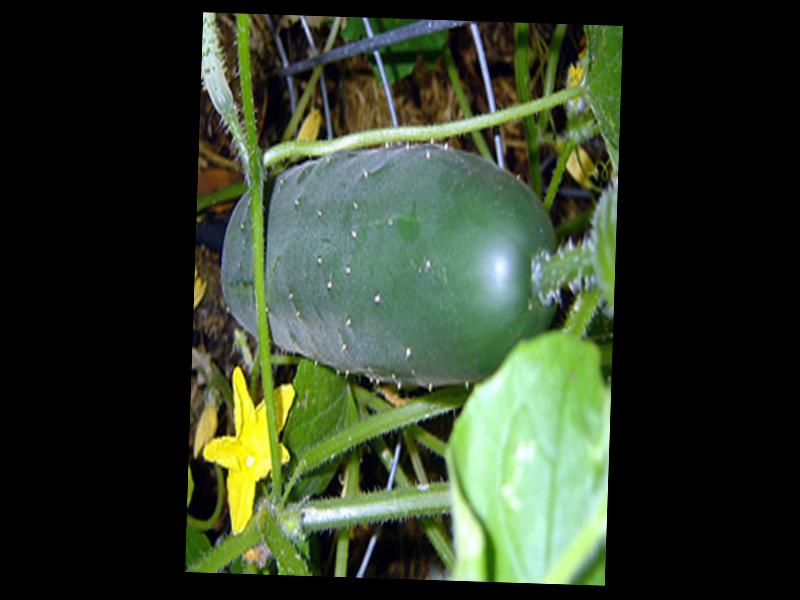Cucumber: (220, 139, 567, 390)
